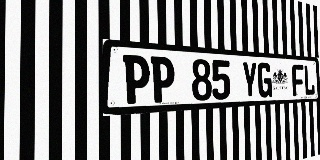5: (212, 60, 230, 100)
8: (191, 58, 212, 101)
F: (292, 64, 304, 96)
G: (257, 62, 272, 98)
L: (304, 65, 315, 96)
P: (123, 55, 150, 104), (150, 56, 175, 103)
Y: (242, 61, 258, 99)
